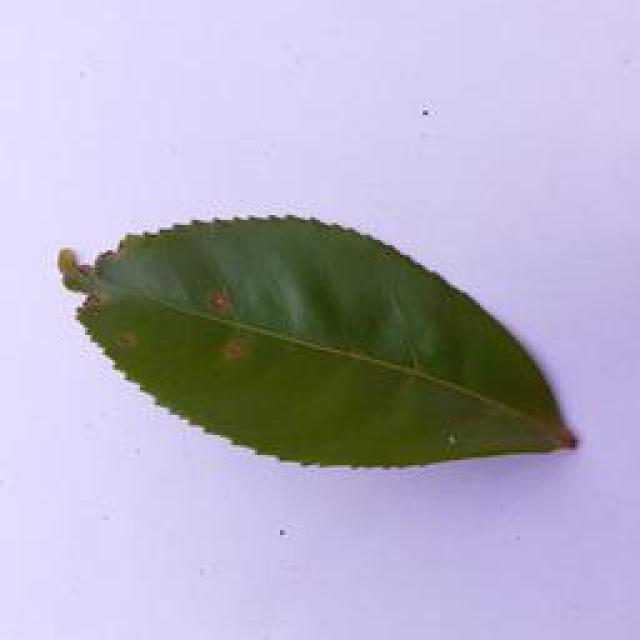Helopeltis: (45, 185, 587, 469)
